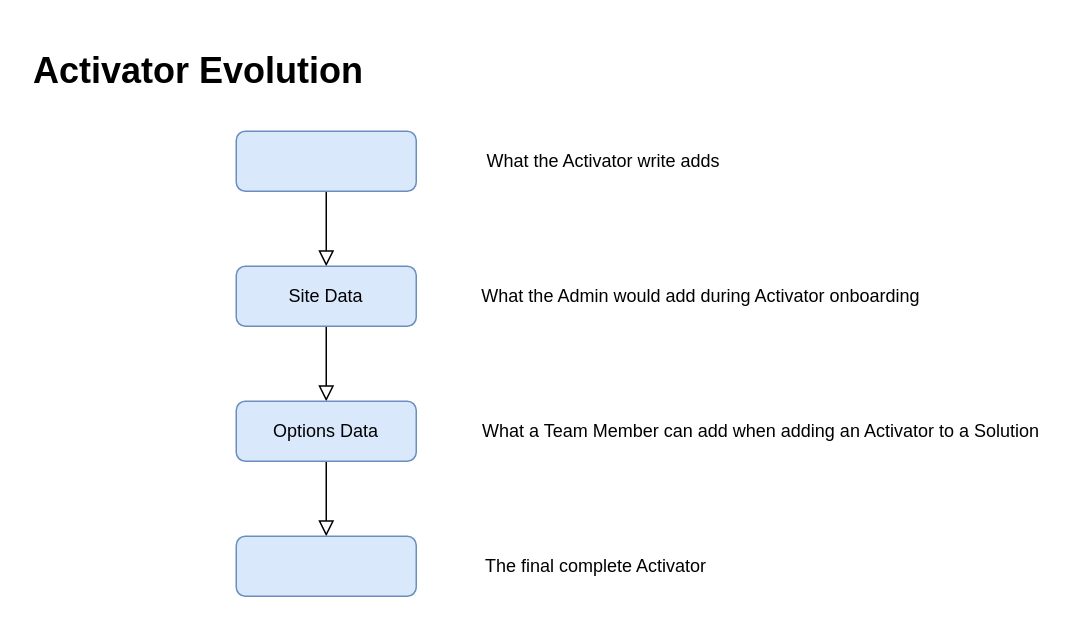
Image size: 1071x623. Some labels were removed from this diagram. The shapes that lost their labels are listed below. From the top down, each one's centre as x and y in pixels, then its label:
the point at 325,160: Activator Metadata
the point at 325,565: Complete Activator
